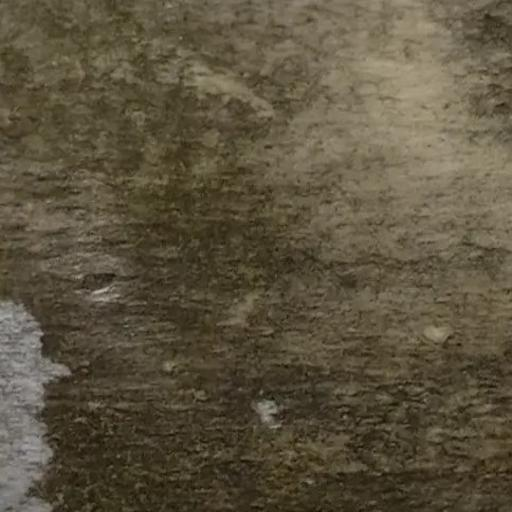algae: (44, 240, 472, 454)
